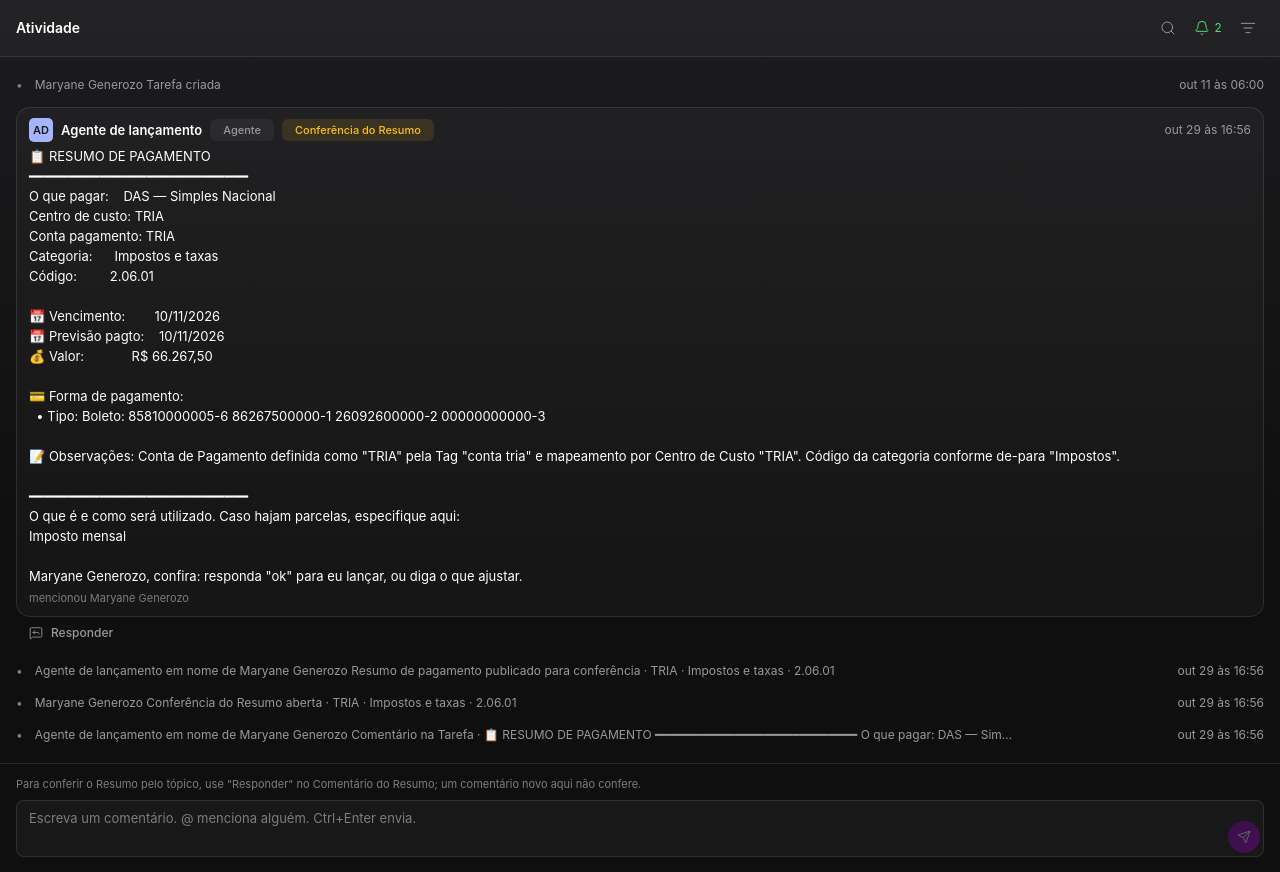
Test case: (b) enviar grava uma addTaskComment com o pai = raiz do fio › Ctrl+Enter e o botão "Enviar resposta" mandam o conteúdo e o parentCommentId
Click the button "Responder": [71, 633] box [16,617,126,649]
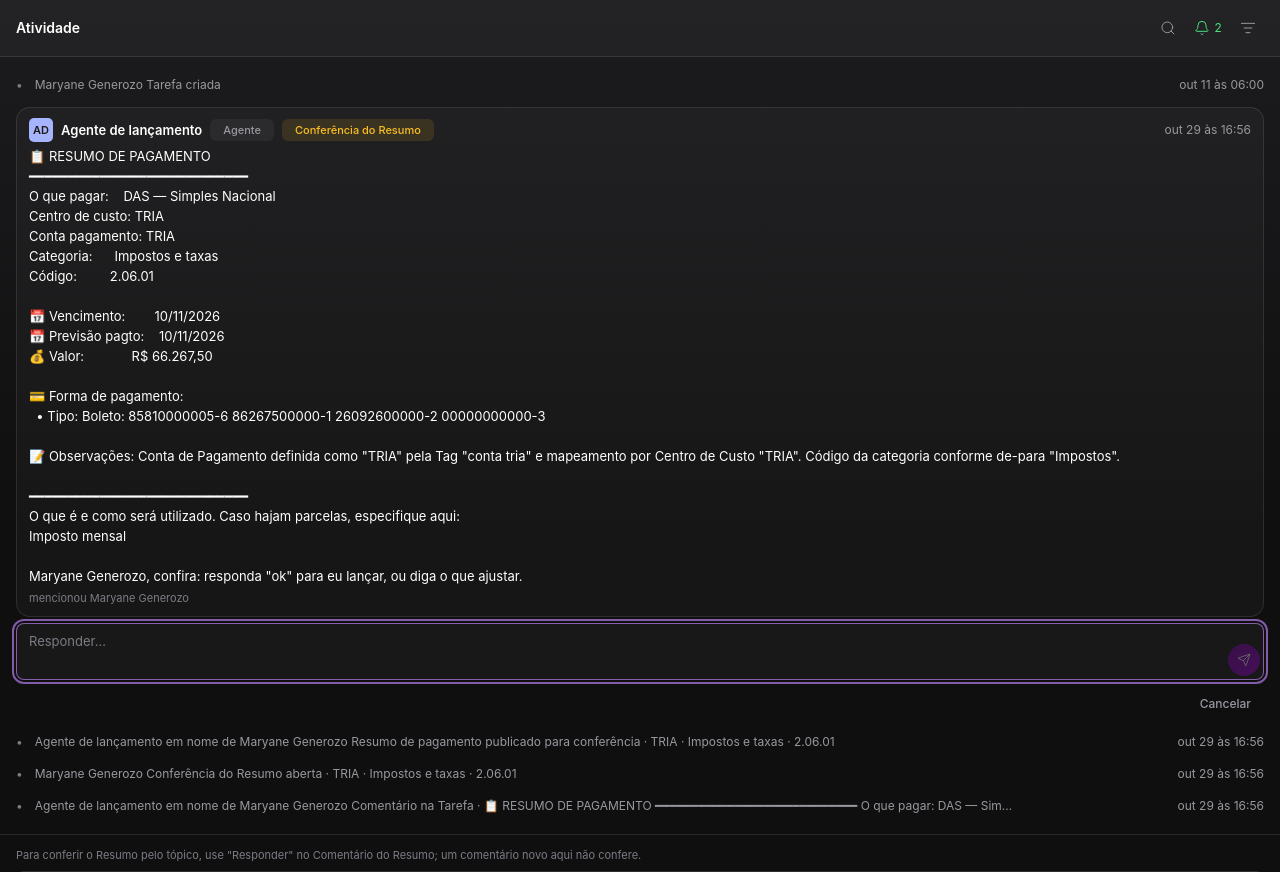
In the text box named "Resposta no fio": [640, 652] box [16,623,1264,680], type "ok"
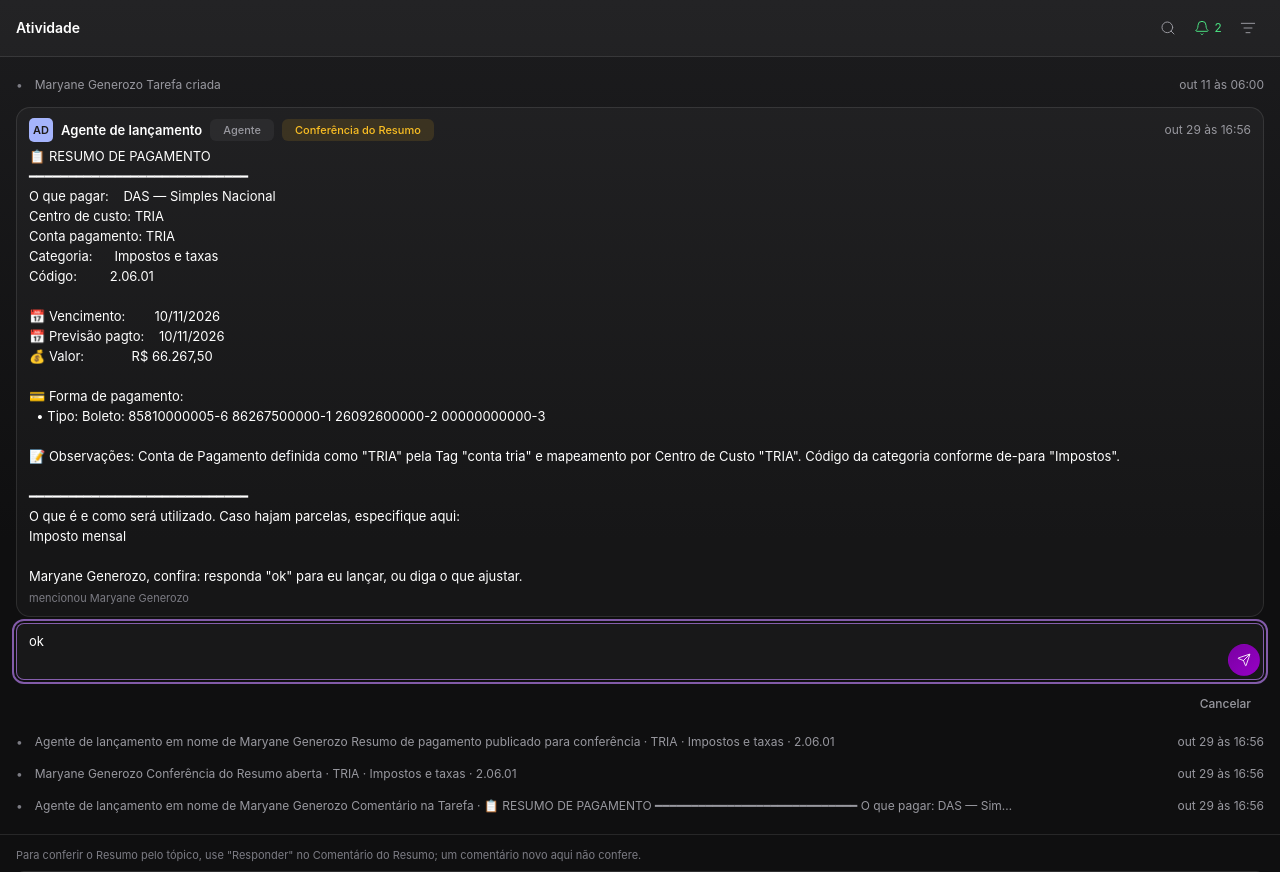
Press Enter in the text box named "Resposta no fio", box [16,623,1264,680]
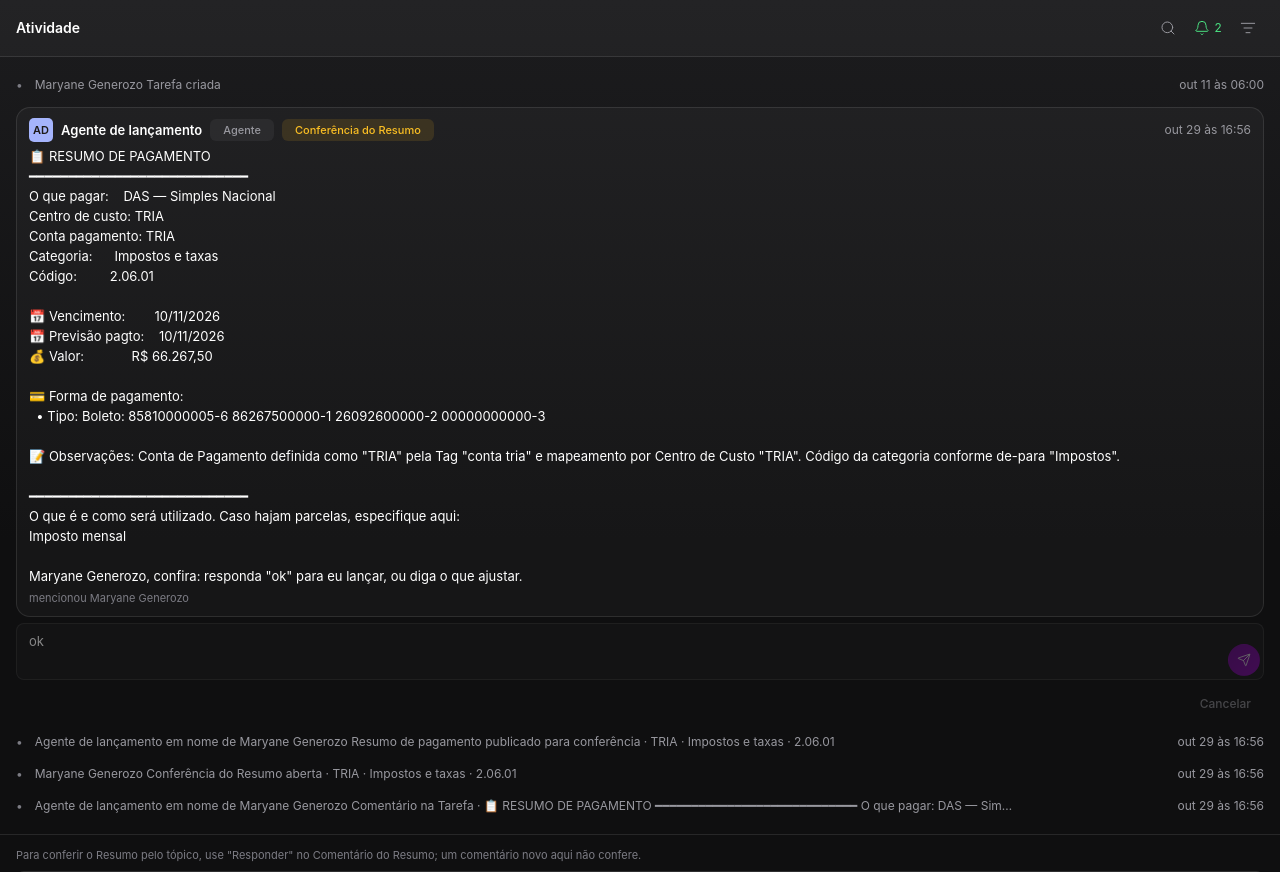
Expected: the button named "Enviando…" is shown, [1228,644,1260,676]
